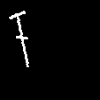double_crochet: (9, 11, 28, 66)
